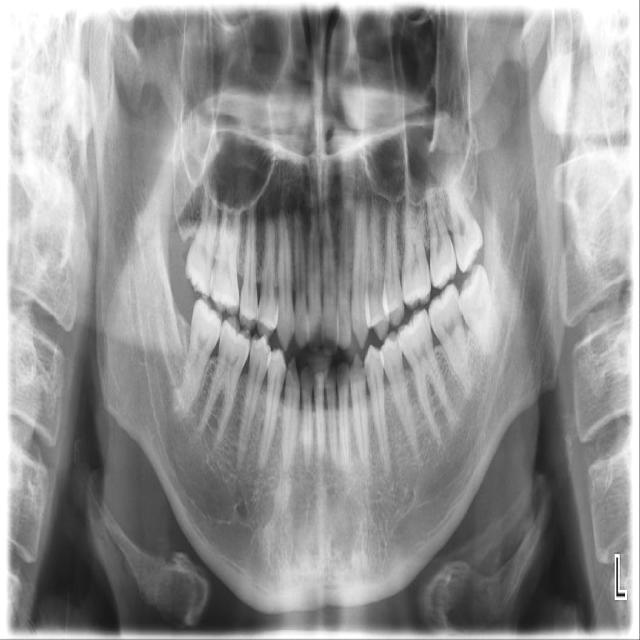impacted tooth: (458, 265, 506, 356)
